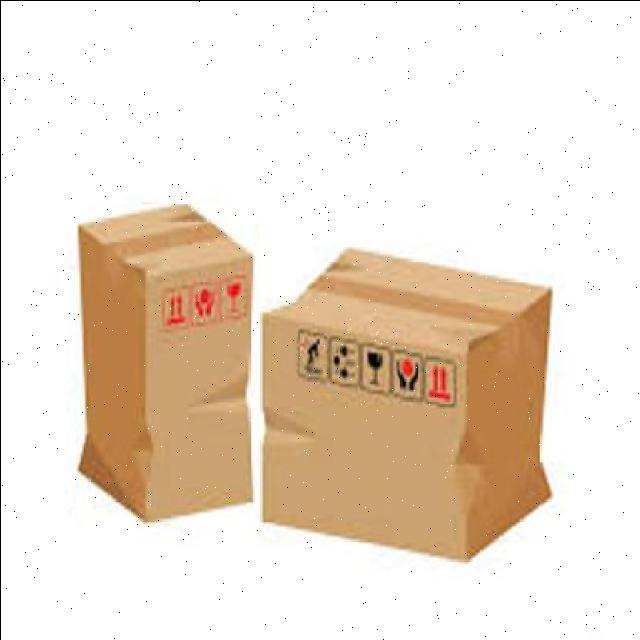defect: (256, 245, 562, 564), (75, 203, 254, 526)
